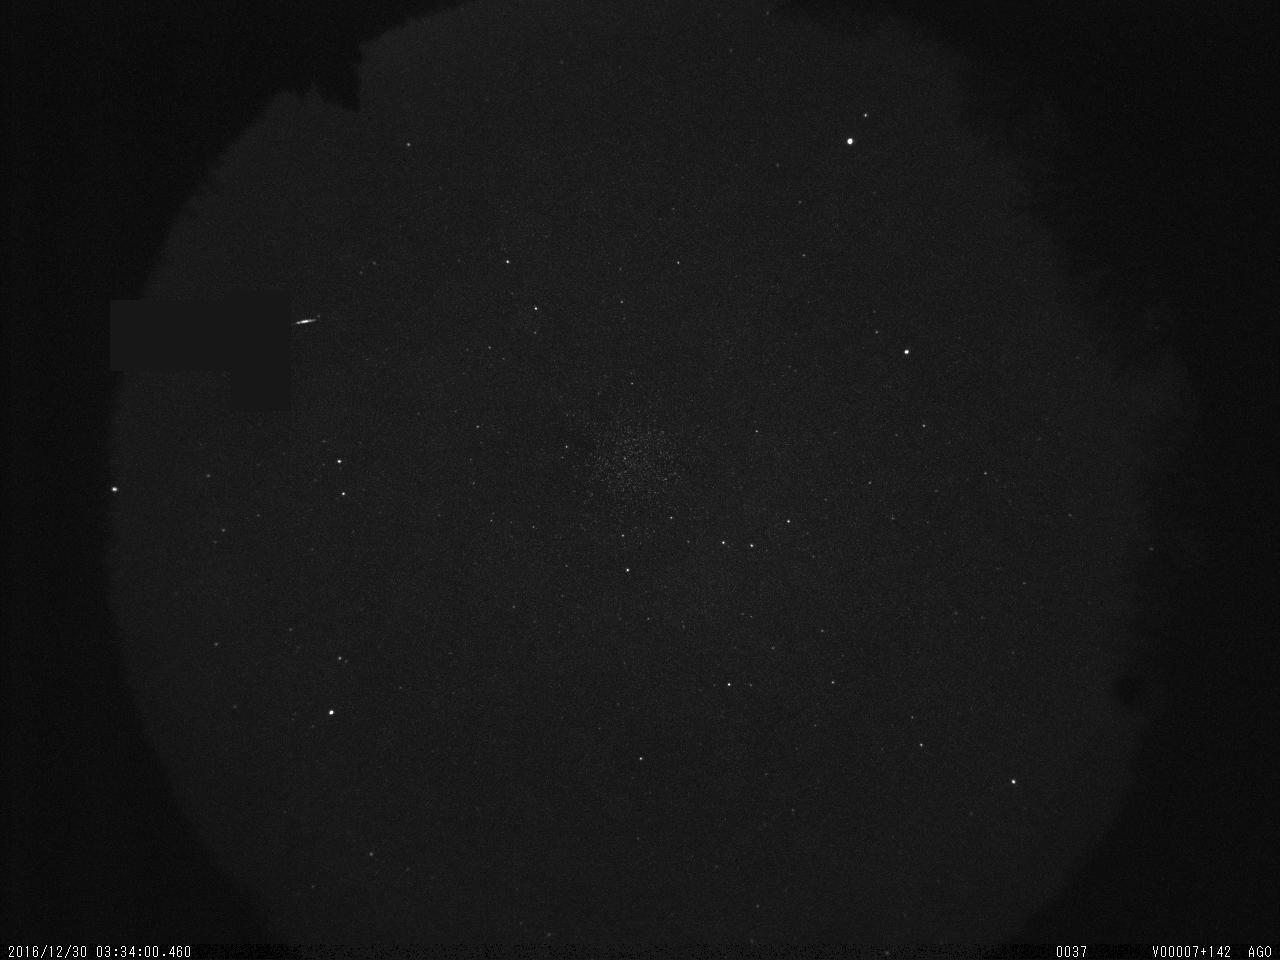meteor: (289, 311, 323, 330)
